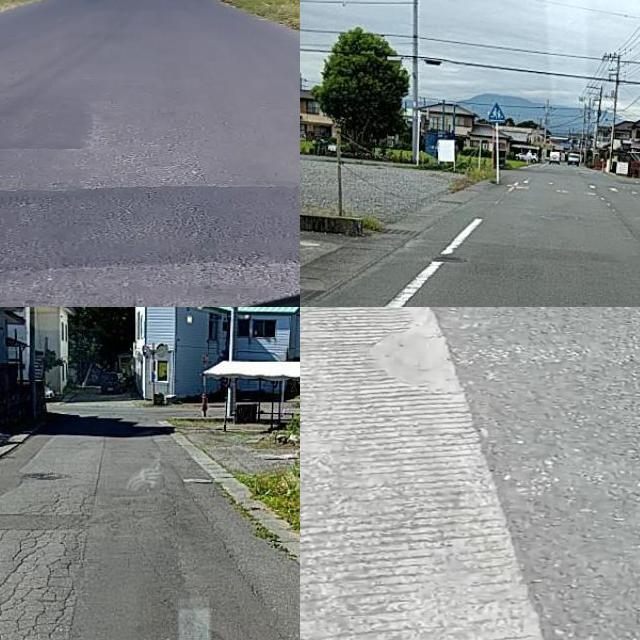Retak Buaya: (0, 540, 87, 640)
Sambungan: (300, 307, 544, 640), (0, 188, 300, 277), (0, 514, 84, 533)
